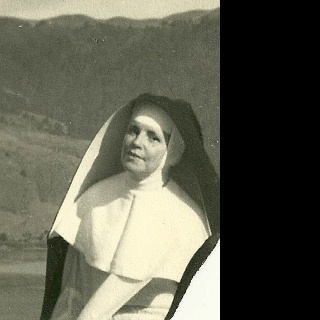without_mask: (121, 119, 171, 175)
